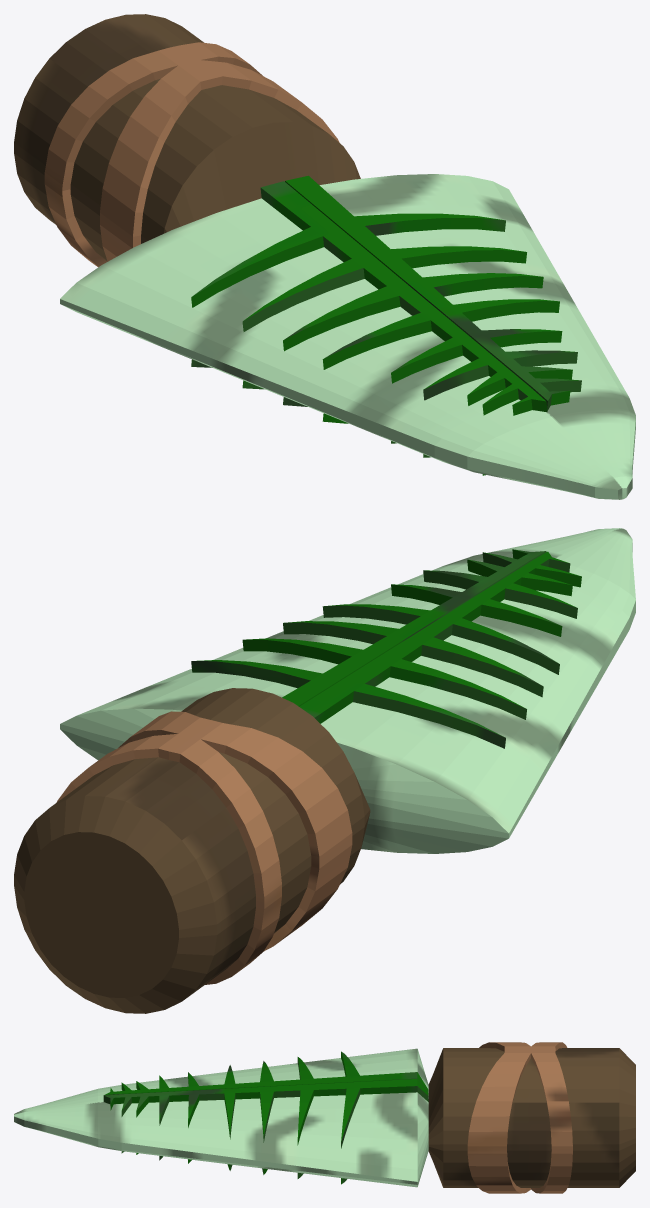
The model's file is item-leaf-blade.glb.
The picture shows the model from 3 angles, top to bottom: view 1: azimuth 30°, elevation 25°; view 2: azimuth 150°, elevation 25°; view 3: azimuth 270°, elevation 25°; orthographic projection. The views are drawn at different scales.
Bounding box in the file's own units: 3.6 × 1.75 × 7.23.
4 materials, 4 textured.
